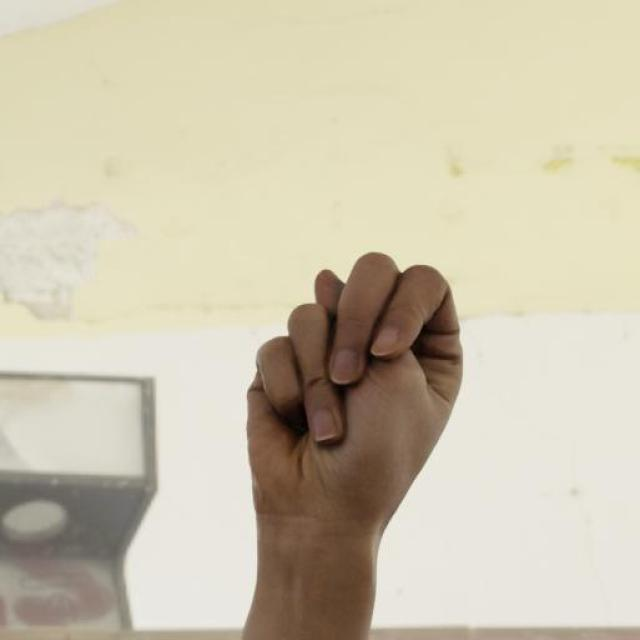N: (242, 248, 467, 532)
